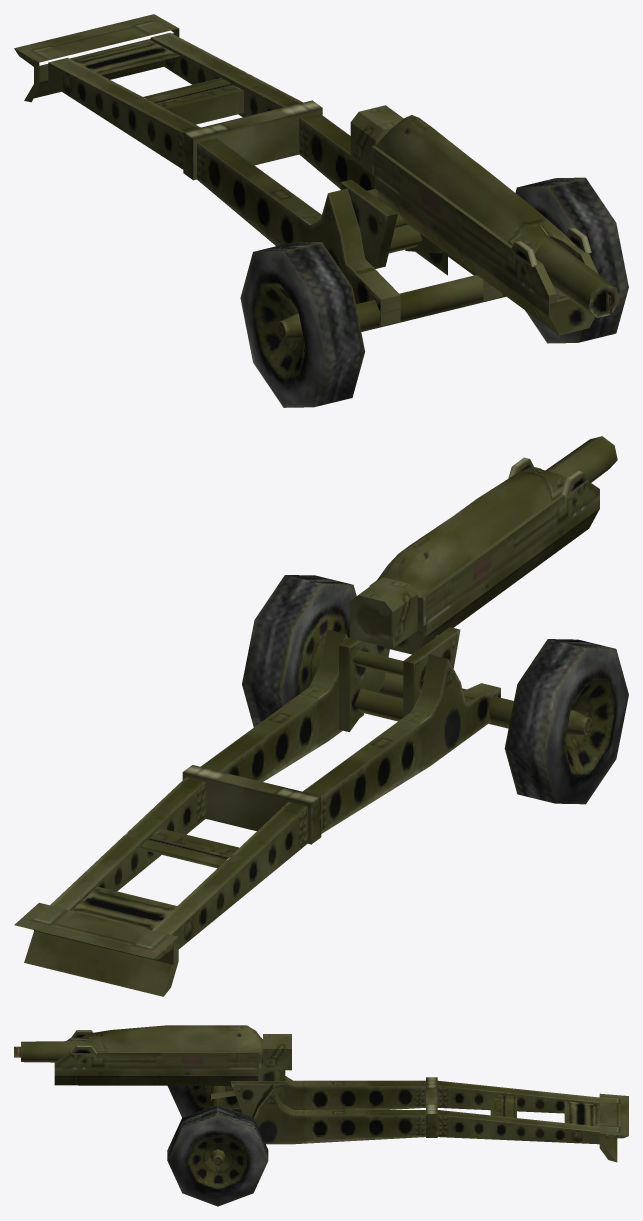
File: USM8Gun.dae
3 renders of one model, top to bottom at view 1: azimuth 30°, elevation 25°; view 2: azimuth 150°, elevation 25°; view 3: azimuth 270°, elevation 25°, orthographic. The views are drawn at different scales.
Parts seen in each view (by area): view 1: carriage, sleeve, wheels, barrel; view 2: carriage, wheels, sleeve, barrel; view 3: carriage, sleeve, wheels, barrel.
Part boxes in pixels (bbox=[...]): carriage: bbox=[14, 14, 505, 331]; sleeve: bbox=[340, 115, 598, 335]; wheels: bbox=[240, 177, 628, 407]; barrel: bbox=[350, 105, 619, 317]; carriage: bbox=[14, 629, 513, 996]; wheels: bbox=[242, 575, 628, 804]; sleeve: bbox=[339, 457, 599, 731]; barrel: bbox=[350, 436, 617, 648]; carriage: bbox=[211, 1076, 628, 1162]; sleeve: bbox=[54, 1025, 285, 1116]; wheels: bbox=[167, 1085, 268, 1206]; barrel: bbox=[21, 1034, 291, 1070].
Bounding box in the file's own units: 10.35 × 30.46 × 7.58.
